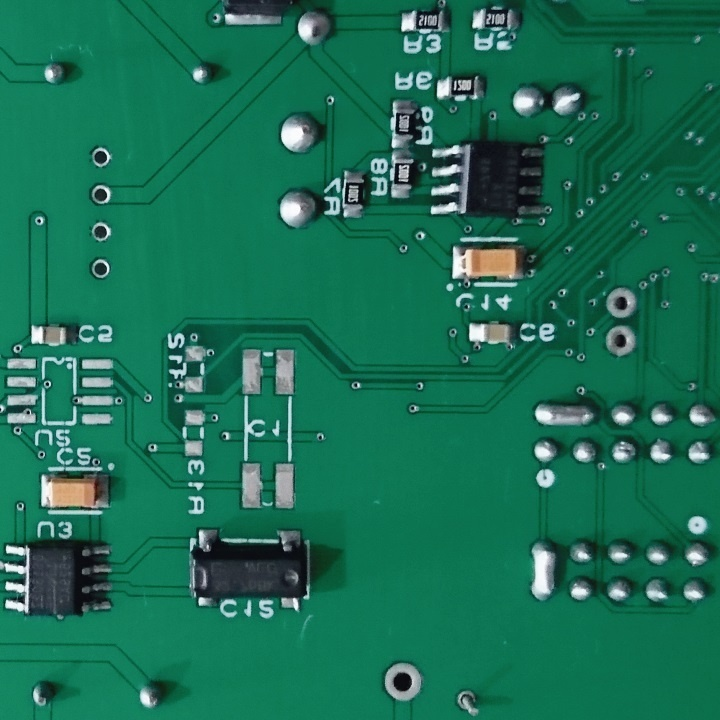F: (381, 660, 424, 703), (604, 322, 640, 364), (604, 284, 639, 319), (453, 686, 481, 717), (87, 183, 114, 208), (89, 219, 114, 246), (89, 255, 113, 282), (87, 145, 113, 168)
P: (527, 534, 559, 606), (530, 400, 600, 429)
